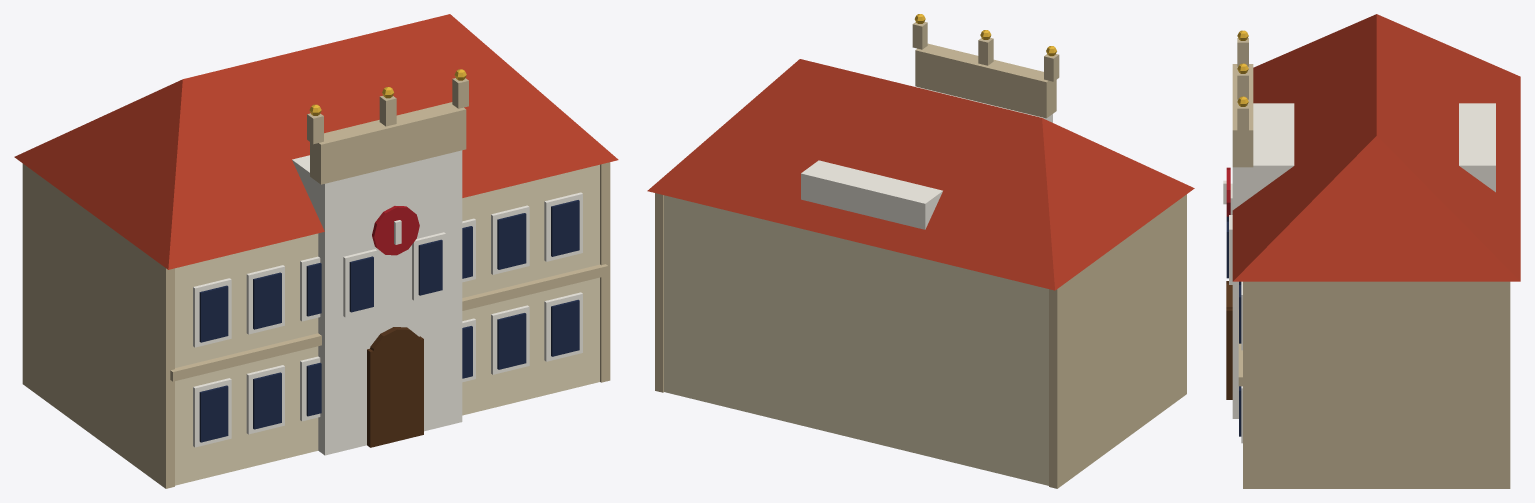
File: palac.glb
3 views of the same model, side by side, from view 1: azimuth 30°, elevation 25°; view 2: azimuth 150°, elevation 25°; view 3: azimuth 270°, elevation 25° (orthographic). The views are drawn at different scales.
Parts seen in each view (by area): view 1: palac; view 2: palac; view 3: palac.
Boxes of the visible parts, box(x1,y1,x2,y2) form: palac: box(14, 14, 618, 488); palac: box(647, 14, 1194, 488); palac: box(1223, 14, 1520, 488).
Size of the model in its own units: 5.9 by 4.35 by 3.62.
